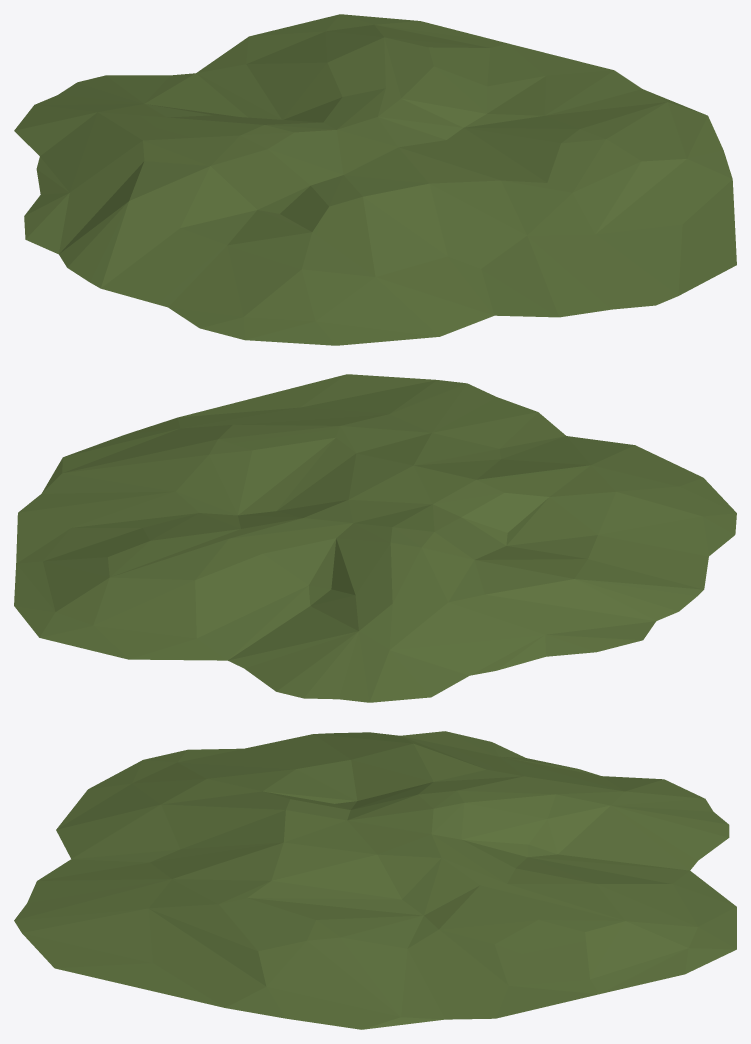
File: Env_GroundMound1.glb
3 views of the same model, one above another, from view 1: azimuth 30°, elevation 25°; view 2: azimuth 150°, elevation 25°; view 3: azimuth 270°, elevation 25° (orthographic). The views are drawn at different scales.
Visible parts, largest first — view 1: SM_Env_GroundMound_01; view 2: SM_Env_GroundMound_01; view 3: SM_Env_GroundMound_01.
Part boxes in pixels (left/top/right/bottom): SM_Env_GroundMound_01: left=14, top=14, right=736, bottom=345; SM_Env_GroundMound_01: left=14, top=374, right=736, bottom=702; SM_Env_GroundMound_01: left=14, top=731, right=736, bottom=1029.
Bounding box in the file's own units: 14.12 × 1 × 14.44.
1 material, 1 textured.
